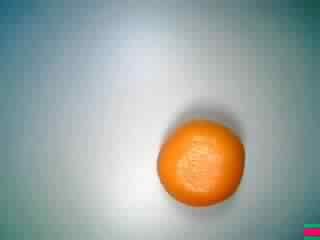orange: (150, 117, 249, 214)
